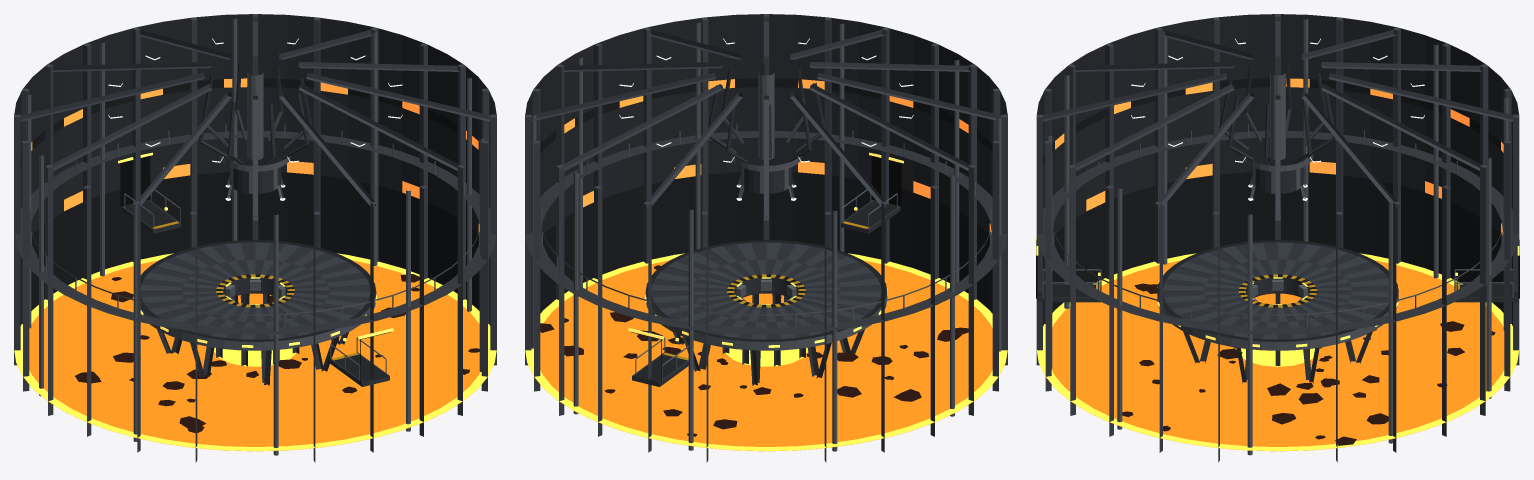
File: chamber.glb
The picture shows the model from 3 angles, left to right: view 1: azimuth 30°, elevation 25°; view 2: azimuth 150°, elevation 25°; view 3: azimuth 270°, elevation 25°; orthographic projection.
Visible parts, largest first — view 1: Chamber, Chamber.Ceiling; view 2: Chamber, Chamber.Ceiling; view 3: Chamber, Chamber.Ceiling.
Boxes of the visible parts, x1,y1,x2,y2 form: Chamber: (14,14,496,462); Chamber.Ceiling: (20,21,490,220); Chamber: (525,14,1007,462); Chamber.Ceiling: (531,21,1001,220); Chamber: (1036,14,1519,462); Chamber.Ceiling: (1043,21,1512,220).
Bounding box in the file's own units: 30 × 20 × 30.06.
